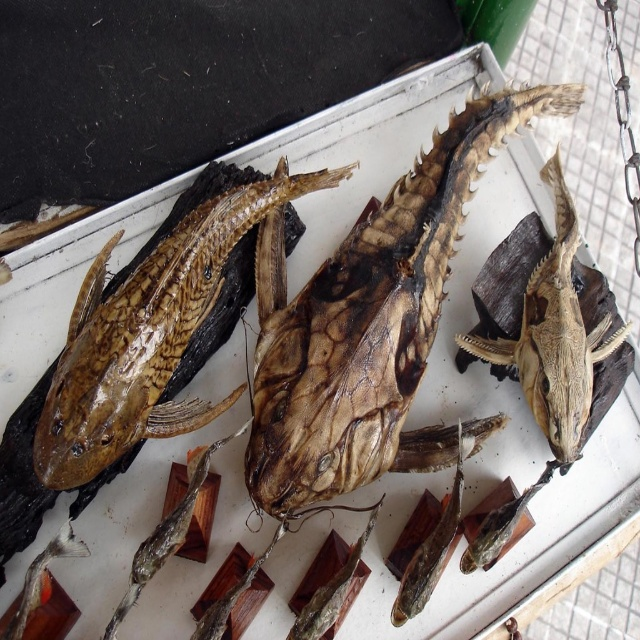Fish: (243, 80, 588, 527), (28, 136, 321, 489), (448, 151, 640, 483), (100, 412, 255, 639), (190, 484, 397, 639), (390, 417, 480, 630), (280, 498, 379, 639), (456, 456, 569, 574), (3, 514, 90, 639)
